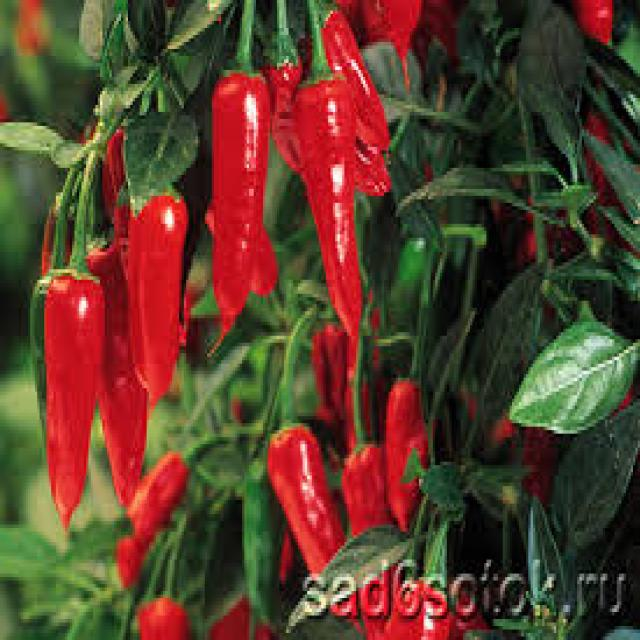hot pepper: (279, 69, 372, 358), (28, 253, 114, 534), (111, 177, 201, 429), (89, 239, 162, 514), (192, 72, 268, 332), (260, 415, 359, 611), (302, 0, 396, 190), (362, 361, 437, 554), (114, 441, 187, 585), (329, 434, 392, 594), (352, 563, 472, 640), (363, 0, 431, 99), (566, 0, 630, 81), (201, 587, 278, 640), (136, 585, 197, 640)
